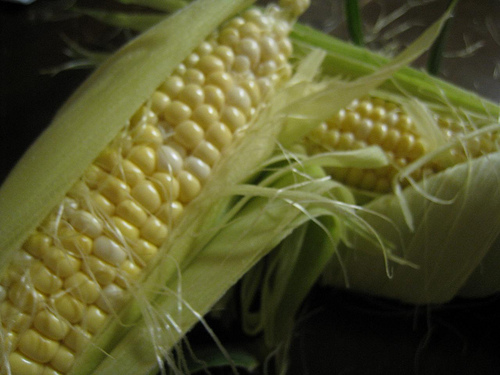corn: (0, 5, 294, 374), (297, 57, 499, 212)
